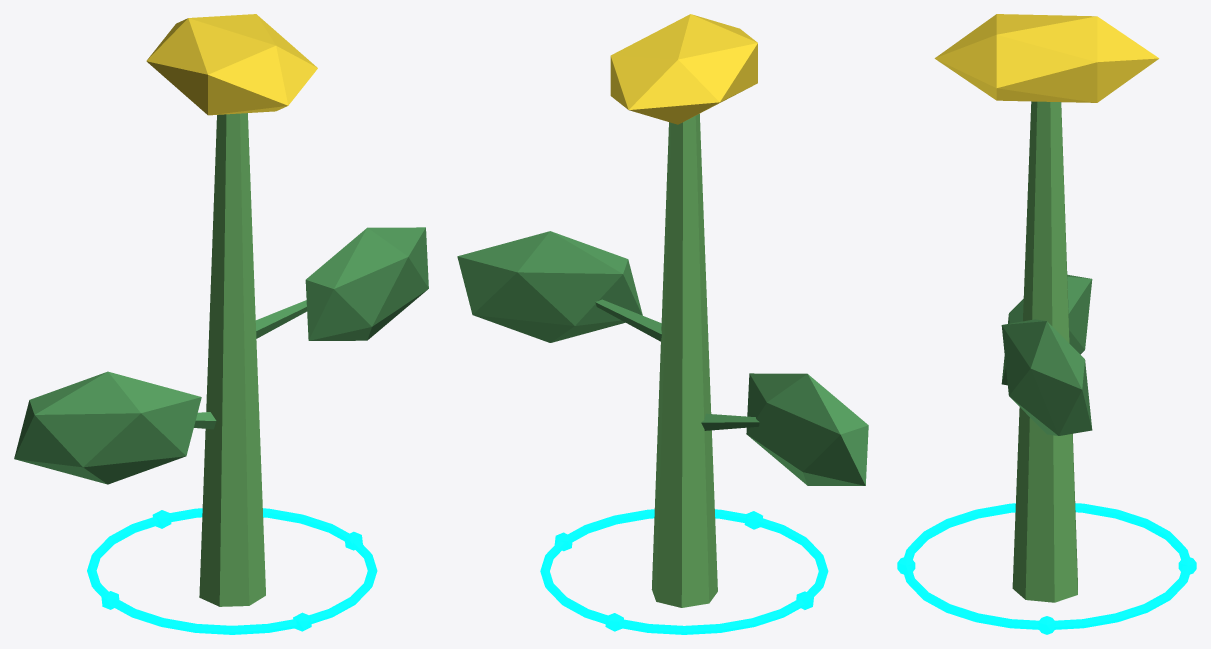
Rendered from growing.glb.
The picture shows the model from 3 angles, left to right: view 1: azimuth 30°, elevation 25°; view 2: azimuth 150°, elevation 25°; view 3: azimuth 270°, elevation 25°; orthographic projection.
Visible parts, largest first — view 1: Sunflower_Stem, Sunflower_Leaf_01, Sunflower_Bud, Sunflower_Leaf_02, Chrono_Energy_Ring, Leaf_Stem_02; view 2: Sunflower_Stem, Sunflower_Leaf_02, Sunflower_Bud, Sunflower_Leaf_01, Chrono_Energy_Ring, Leaf_Stem_02, Leaf_Stem_01; view 3: Sunflower_Stem, Sunflower_Bud, Sunflower_Leaf_02, Chrono_Energy_Ring, Sunflower_Leaf_01.
Part boxes in pixels (left/top/right/bottom): Sunflower_Stem: left=199, top=113, right=265, bottom=606; Sunflower_Leaf_01: left=14, top=371, right=201, bottom=484; Sunflower_Bud: left=146, top=14, right=317, bottom=115; Sunflower_Leaf_02: left=305, top=227, right=428, bottom=340; Chrono_Energy_Ring: left=87, top=508, right=377, bottom=634; Leaf_Stem_02: left=255, top=300, right=306, bottom=338; Sunflower_Stem: left=651, top=114, right=717, bottom=607; Sunflower_Leaf_02: left=457, top=231, right=642, bottom=342; Sunflower_Bud: left=610, top=14, right=757, bottom=124; Sunflower_Leaf_01: left=746, top=373, right=868, bottom=485; Chrono_Energy_Ring: left=540, top=509, right=828, bottom=634; Leaf_Stem_02: left=595, top=299, right=661, bottom=341; Leaf_Stem_01: left=701, top=413, right=759, bottom=430; Sunflower_Stem: left=1012, top=101, right=1077, bottom=602; Sunflower_Bud: left=934, top=14, right=1159, bottom=102; Sunflower_Leaf_02: left=1001, top=319, right=1092, bottom=435; Chrono_Energy_Ring: left=902, top=503, right=1191, bottom=629; Sunflower_Leaf_01: left=1001, top=274, right=1092, bottom=385.
Bounding box in the file's own units: 1.52 × 1.99 × 0.9574.
